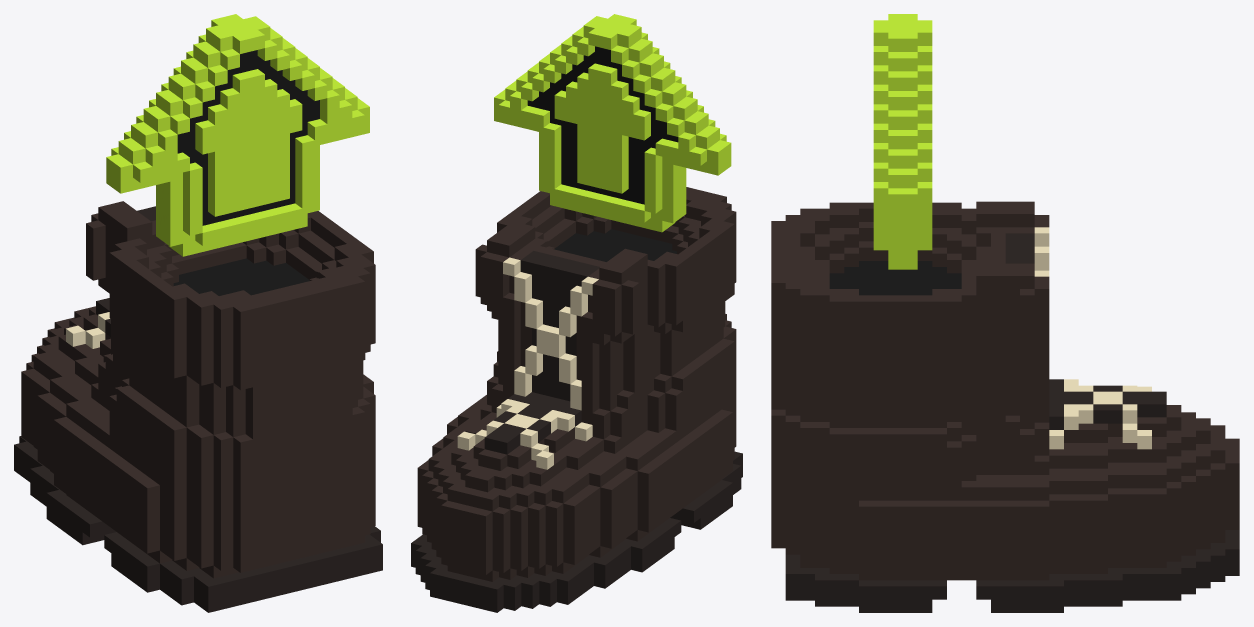
File: BootUpgrade.obj
3 renders of one model, left to right at view 1: azimuth 30°, elevation 25°; view 2: azimuth 150°, elevation 25°; view 3: azimuth 270°, elevation 25°, orthographic. The views are drawn at different scales.
Visible parts, largest first — view 1: BootUpgrade; view 2: BootUpgrade; view 3: BootUpgrade.
Part boxes in pixels (x1,y1,x2,y2): BootUpgrade: (14,14,382,612); BootUpgrade: (411,14,742,612); BootUpgrade: (771,14,1239,612).
Size of the model in its own units: 20 by 40 by 32.
1 material, 1 textured.
